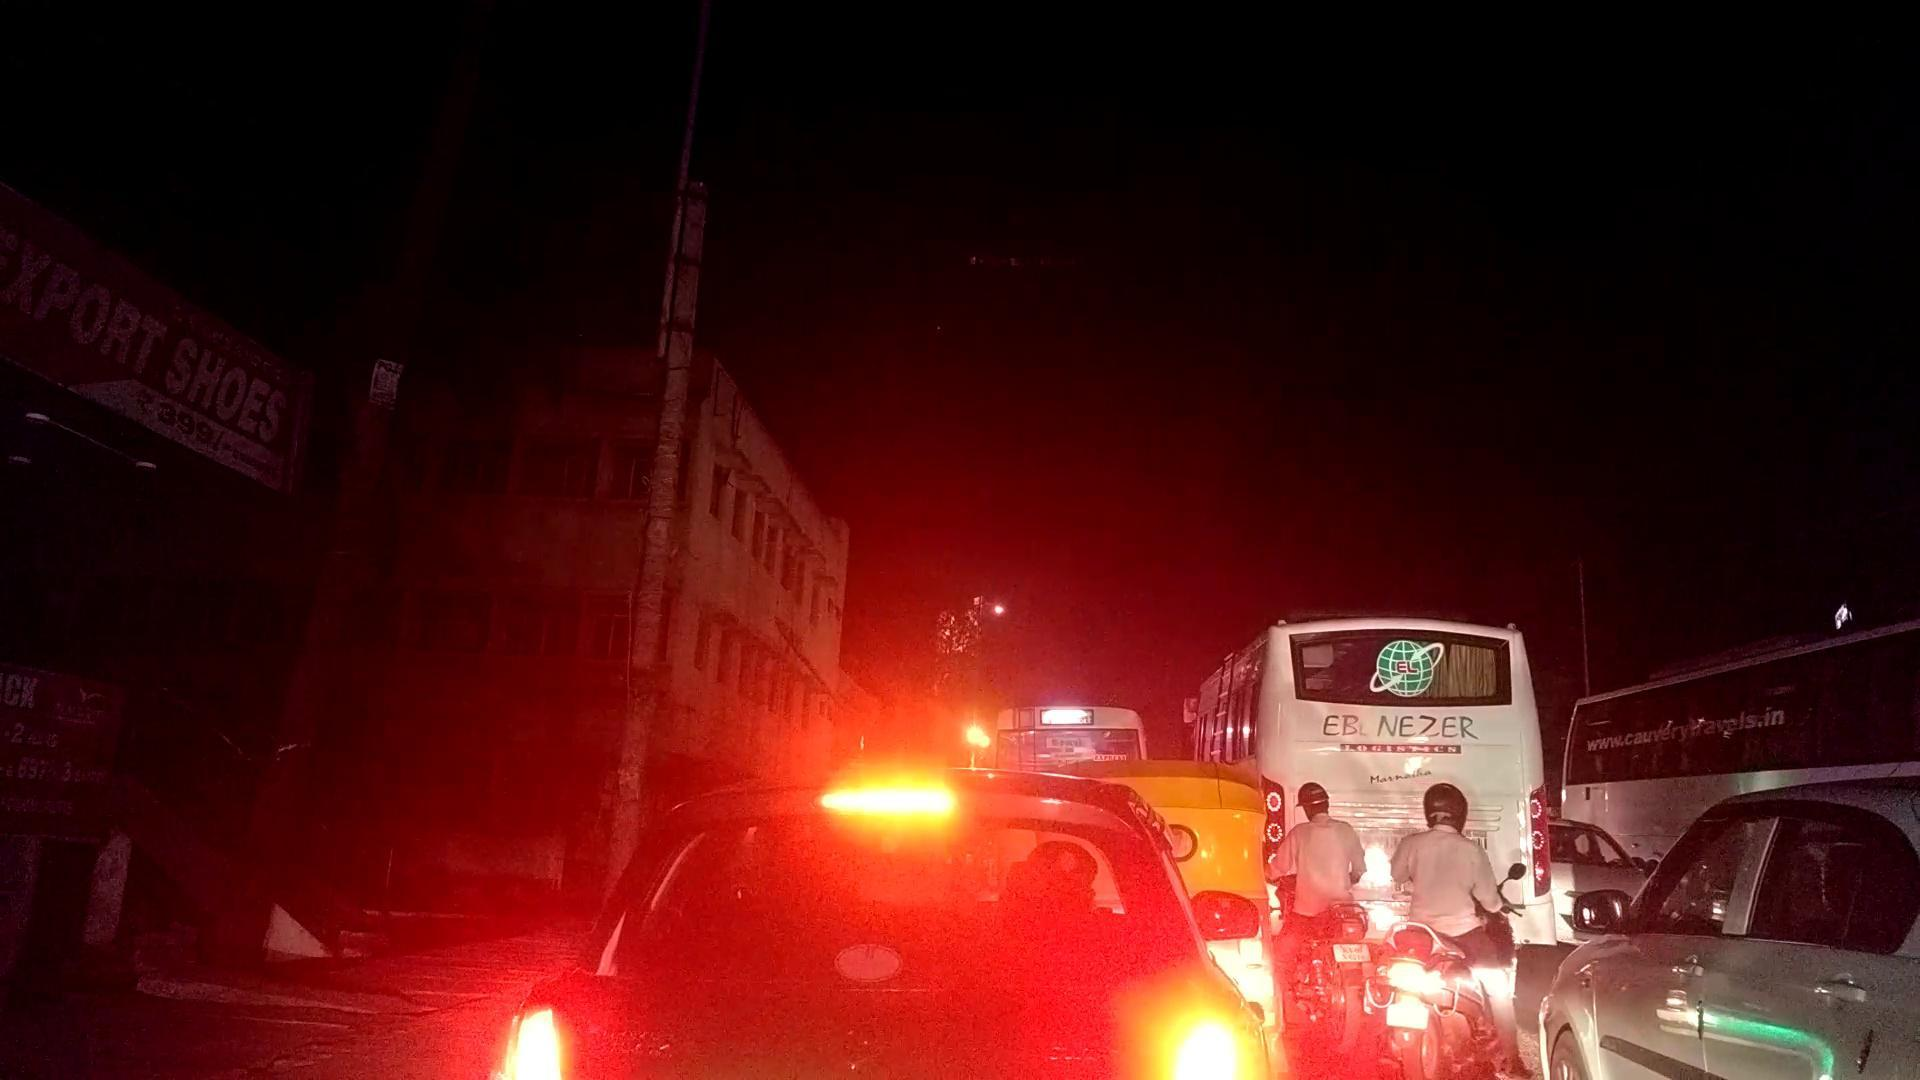on: (640, 483, 1439, 939)
